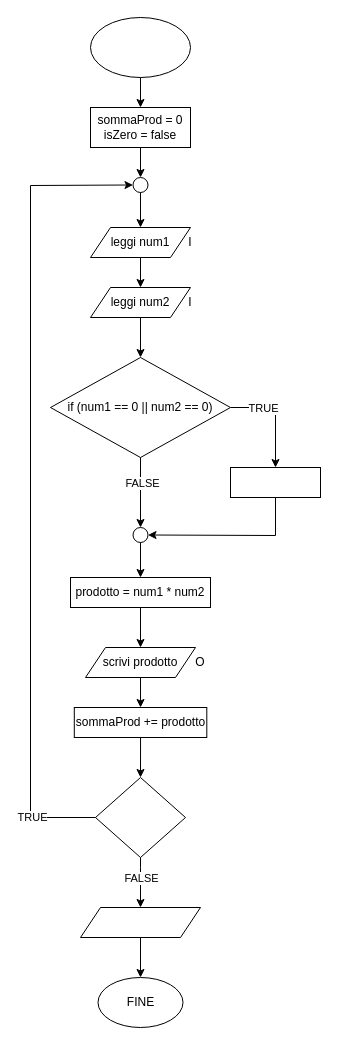
Image size: 338x1045. Some labels were removed from this diagram. Each missing label, with the centre of its shape:
INIZIO: point 140,47
isZero = true: point 275,482
scrivi sommaProd: point 140,922
while (!isZero): point 140,817
